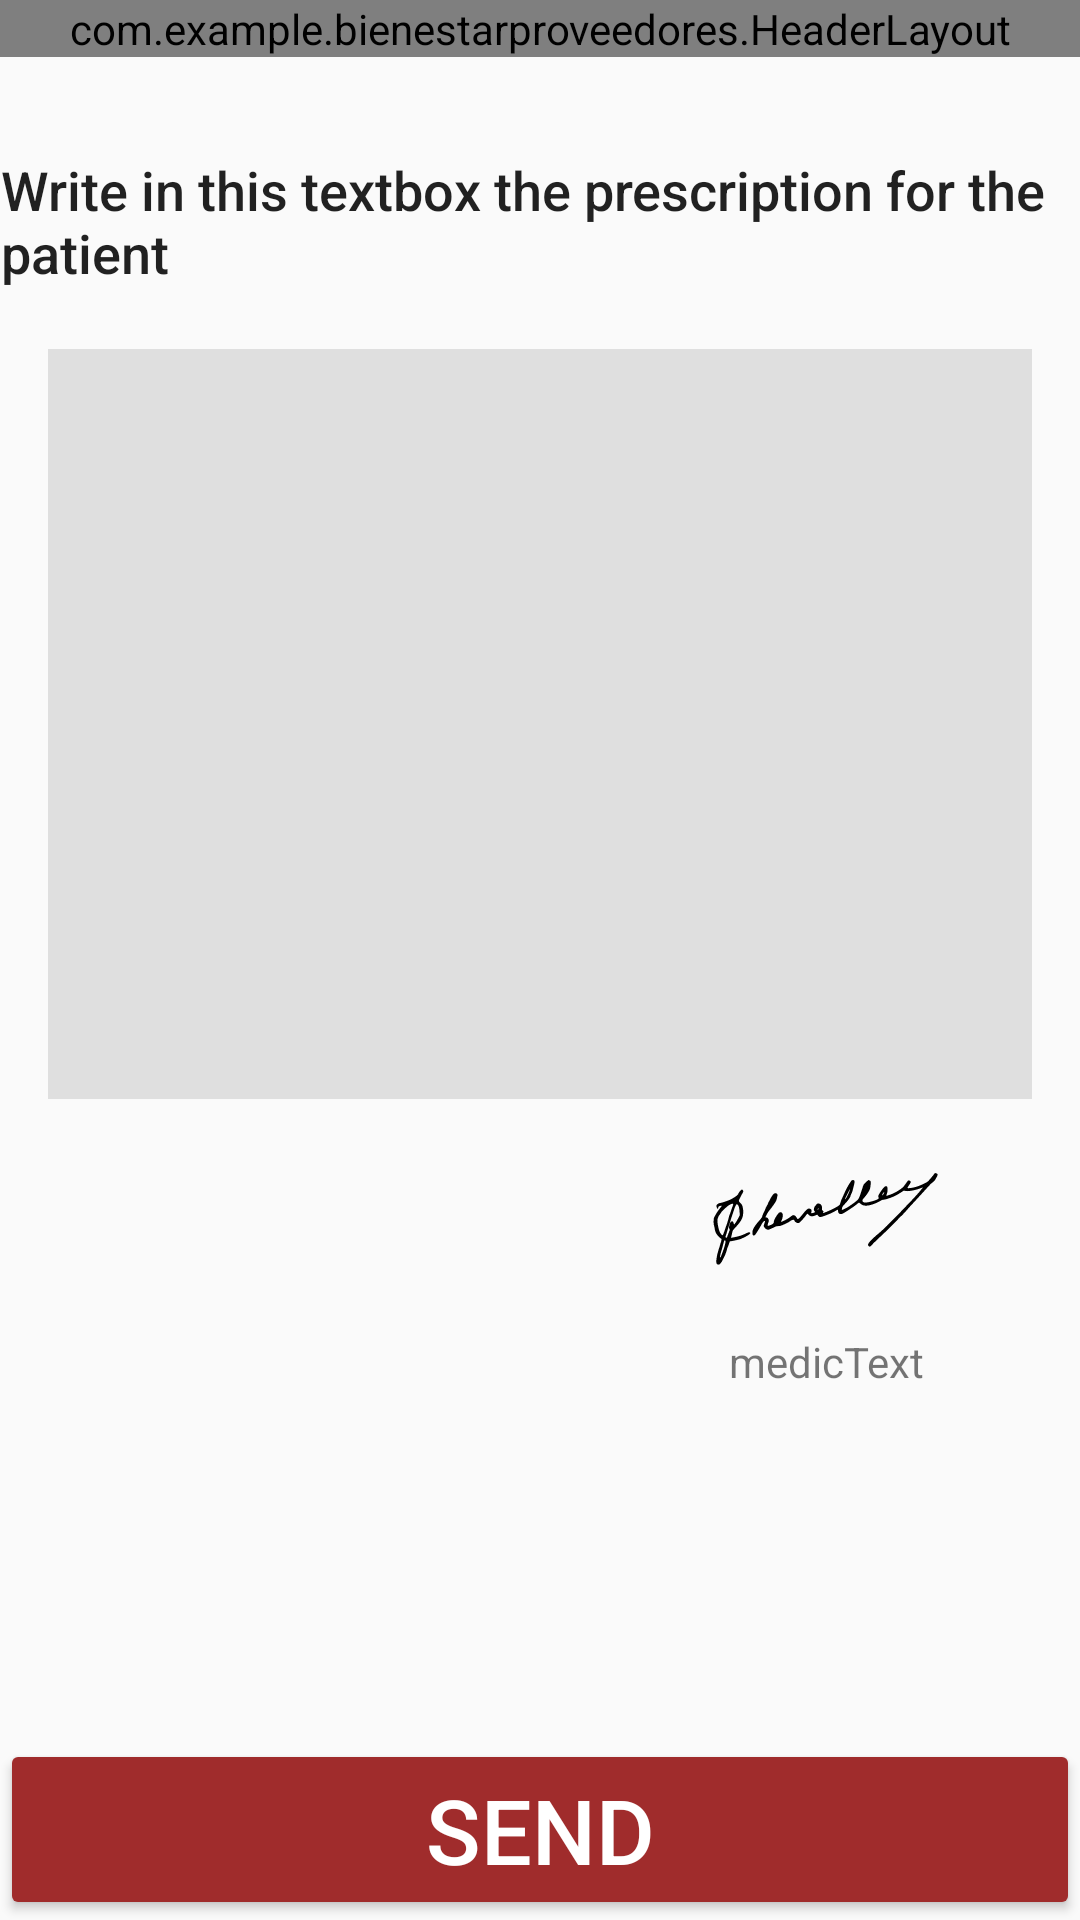

Locate icon controls on the screen. Image size 1080px x 1920px, boxes as (x1, y1, x2, y2).
giovanni chevalley firma: (713, 1173, 938, 1265)
